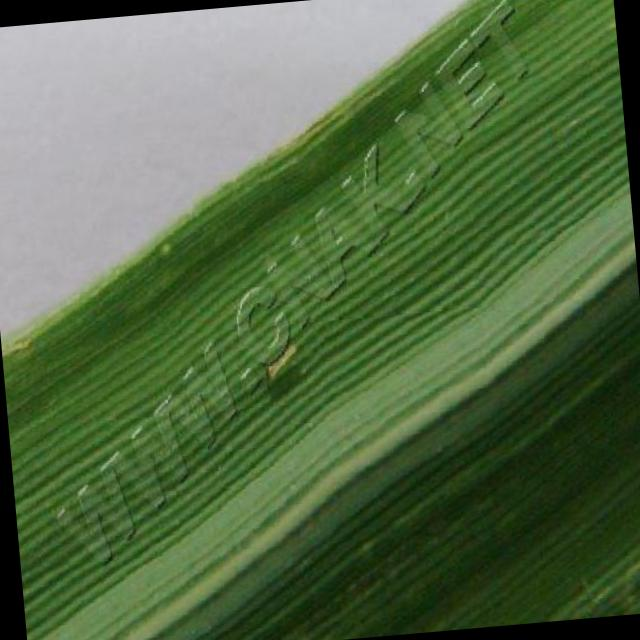leaf-folder: (249, 338, 314, 398)
